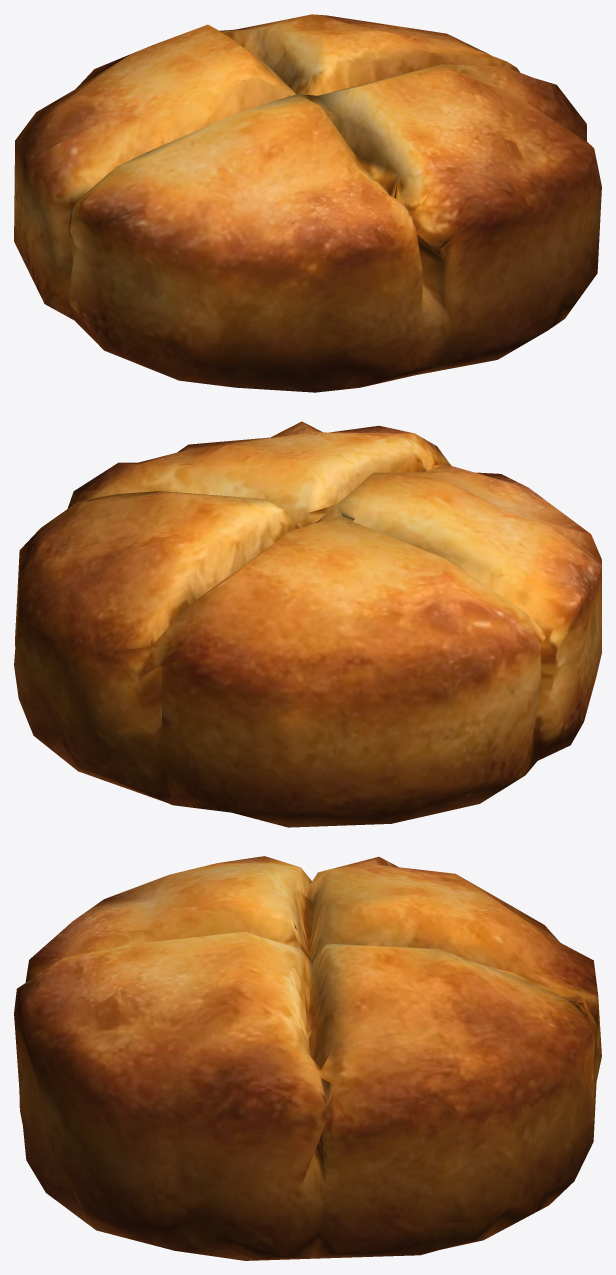
File: meal_heartyBiscuit-desktop.glb
3 views of the same model, one above another, from view 1: azimuth 30°, elevation 25°; view 2: azimuth 150°, elevation 25°; view 3: azimuth 270°, elevation 25° (orthographic). The views are drawn at different scales.
Parts seen in each view (by area): view 1: tripo_node_fd536291-161b-41f9-8173-eb45895e3581; view 2: tripo_node_fd536291-161b-41f9-8173-eb45895e3581; view 3: tripo_node_fd536291-161b-41f9-8173-eb45895e3581.
Part boxes in pixels (x1,y1,x2,y2): tripo_node_fd536291-161b-41f9-8173-eb45895e3581: (14, 14, 601, 392); tripo_node_fd536291-161b-41f9-8173-eb45895e3581: (14, 421, 601, 827); tripo_node_fd536291-161b-41f9-8173-eb45895e3581: (14, 856, 601, 1260).
Bounding box in the file's own units: 0.9785 × 0.4275 × 0.9663.
1 material, 1 textured.
